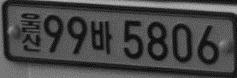0: (170, 22, 193, 63)
5: (123, 19, 143, 59)
6: (196, 24, 219, 65)
8: (146, 20, 168, 61)
9: (66, 15, 87, 55), (43, 14, 63, 52)
바: (89, 20, 112, 55)
울산_V: (19, 12, 43, 52)
